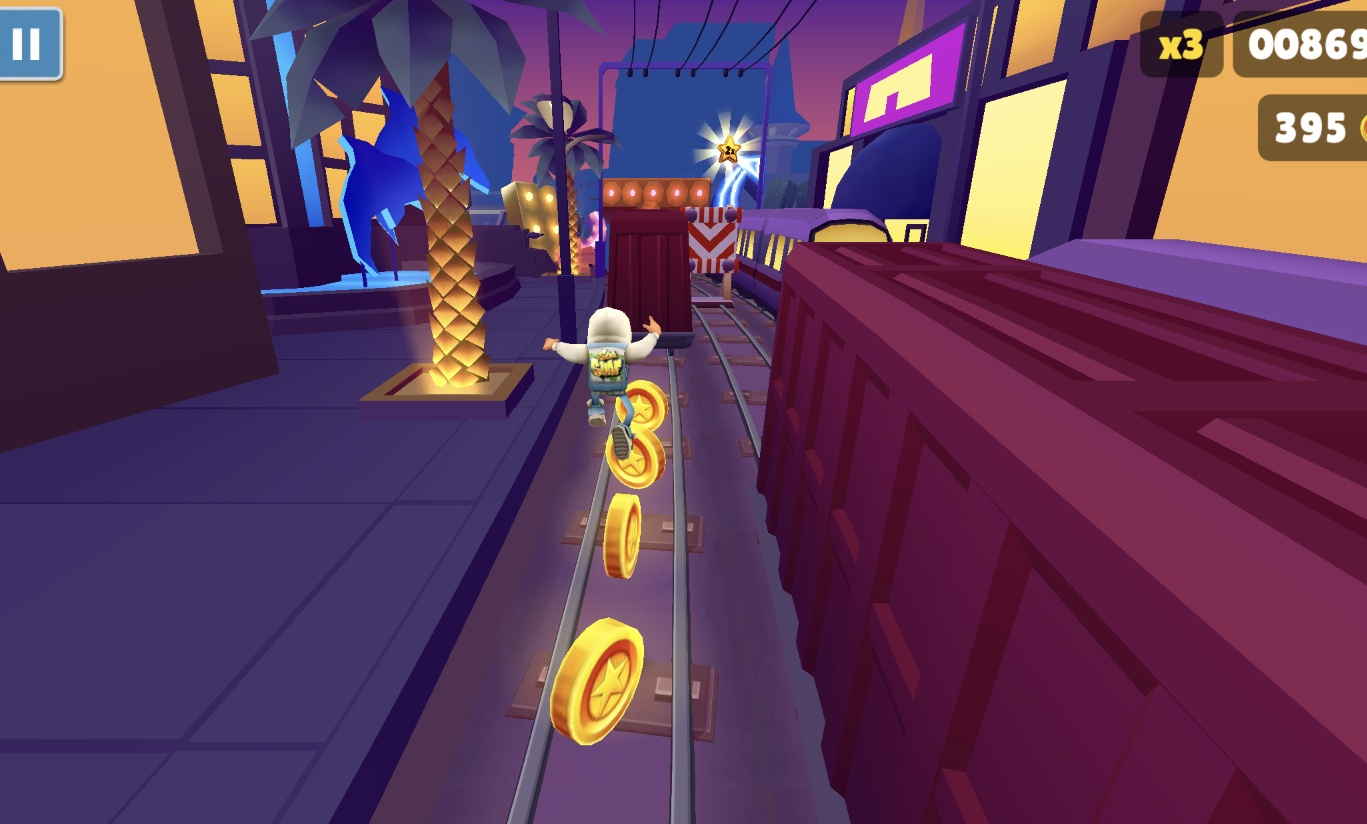overhead_barrier: (684, 205, 743, 312)
train: (757, 241, 1367, 824), (732, 208, 892, 317), (605, 210, 697, 352)
